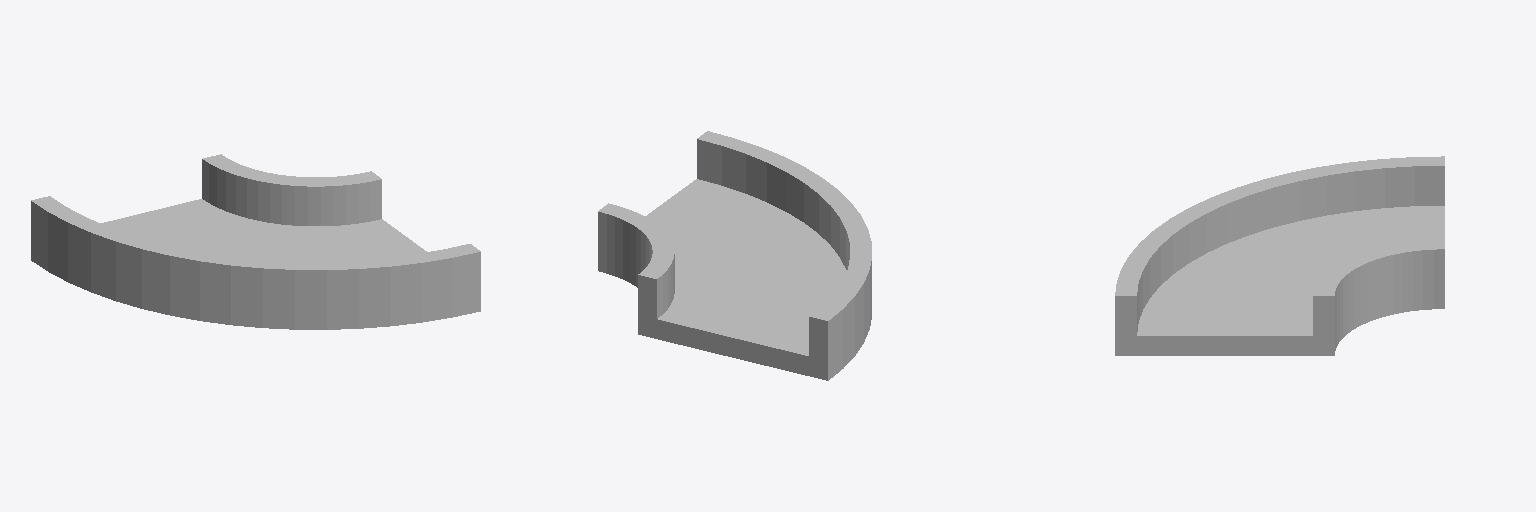
File: CornerMedium.obj
3 renders of one model, left to right at view 1: azimuth 30°, elevation 25°; view 2: azimuth 150°, elevation 25°; view 3: azimuth 270°, elevation 25°, orthographic.
Visible parts, largest first — view 1: CornerMedium; view 2: CornerMedium; view 3: CornerMedium.
Boxes of the visible parts, <box> form: CornerMedium: <box>31,154,480,329</box>; CornerMedium: <box>598,131,871,380</box>; CornerMedium: <box>1115,156,1444,355</box>.
Bounding box in the file's own units: 3 × 0.6 × 3.